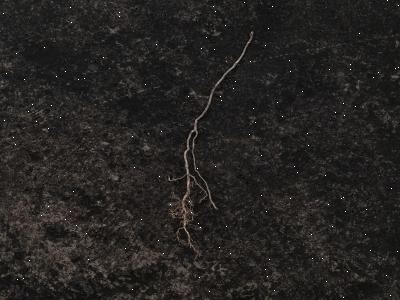Root: (169, 32, 253, 255)
